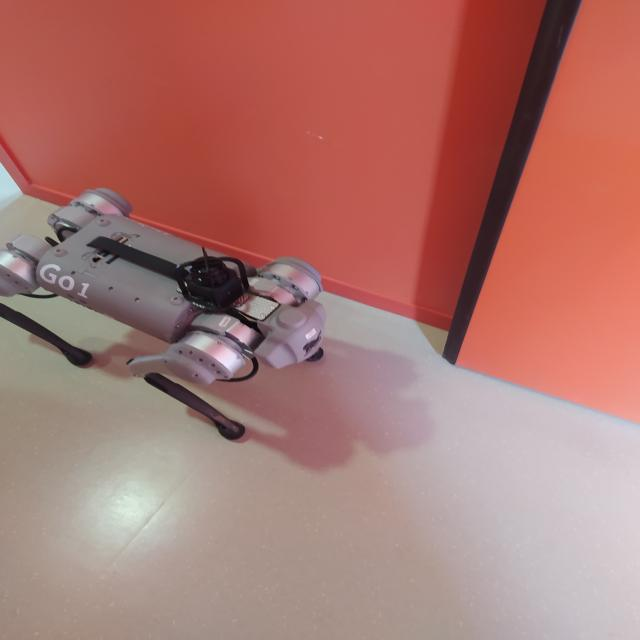unitree-go1-robot: (0, 192, 331, 446), (134, 290, 142, 294)
